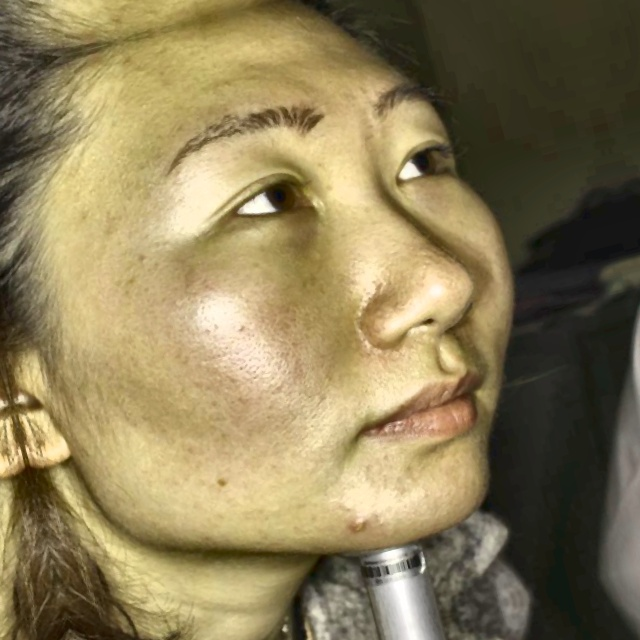comedone: (346, 509, 380, 541)
